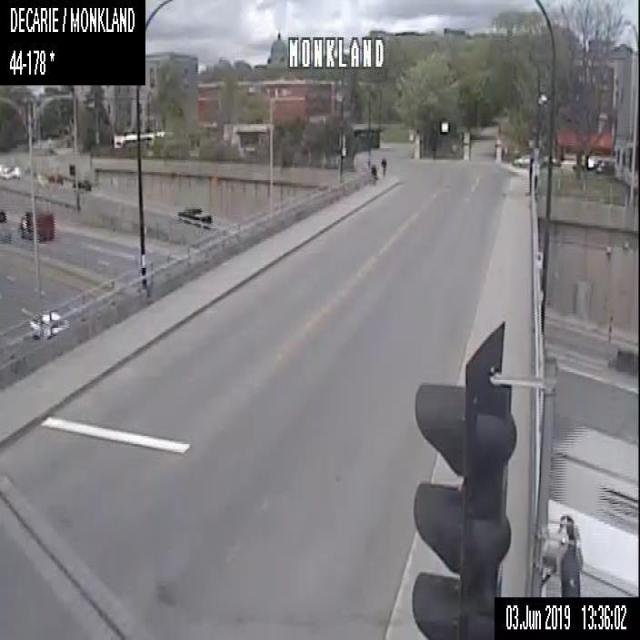pedestrian: (370, 166, 376, 182), (381, 157, 385, 176)
vehicle: (546, 422, 639, 594), (21, 209, 54, 240), (176, 204, 213, 224), (0, 210, 12, 241), (45, 172, 65, 184), (0, 165, 15, 180), (73, 178, 90, 188)
